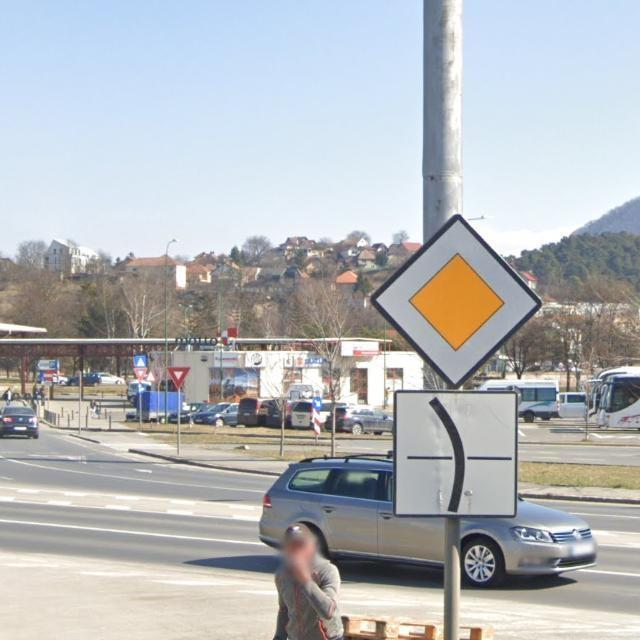prio_give_way: (167, 367, 190, 388)
